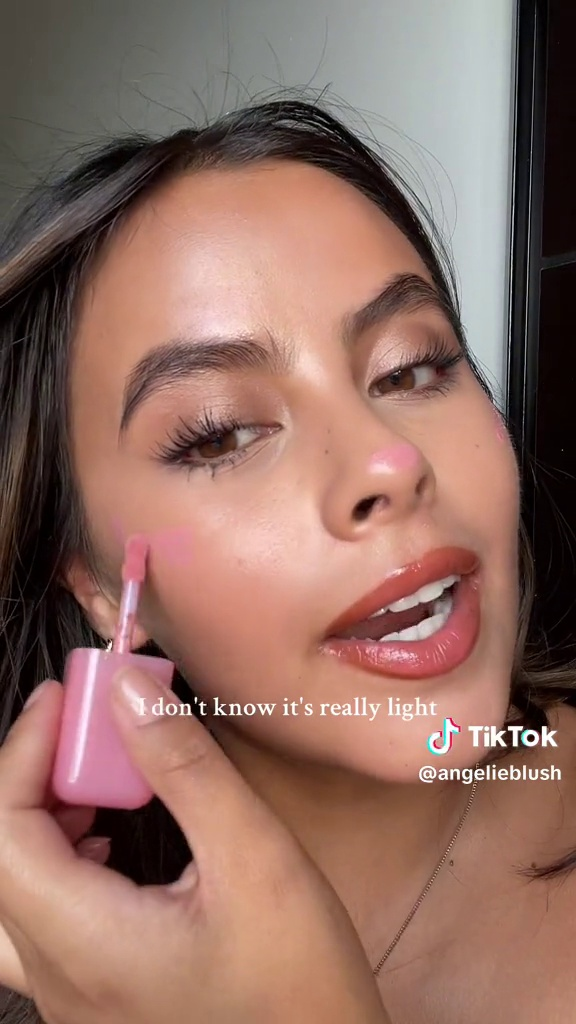train' :'yolo_data/train/images',: (42, 522, 220, 829)
